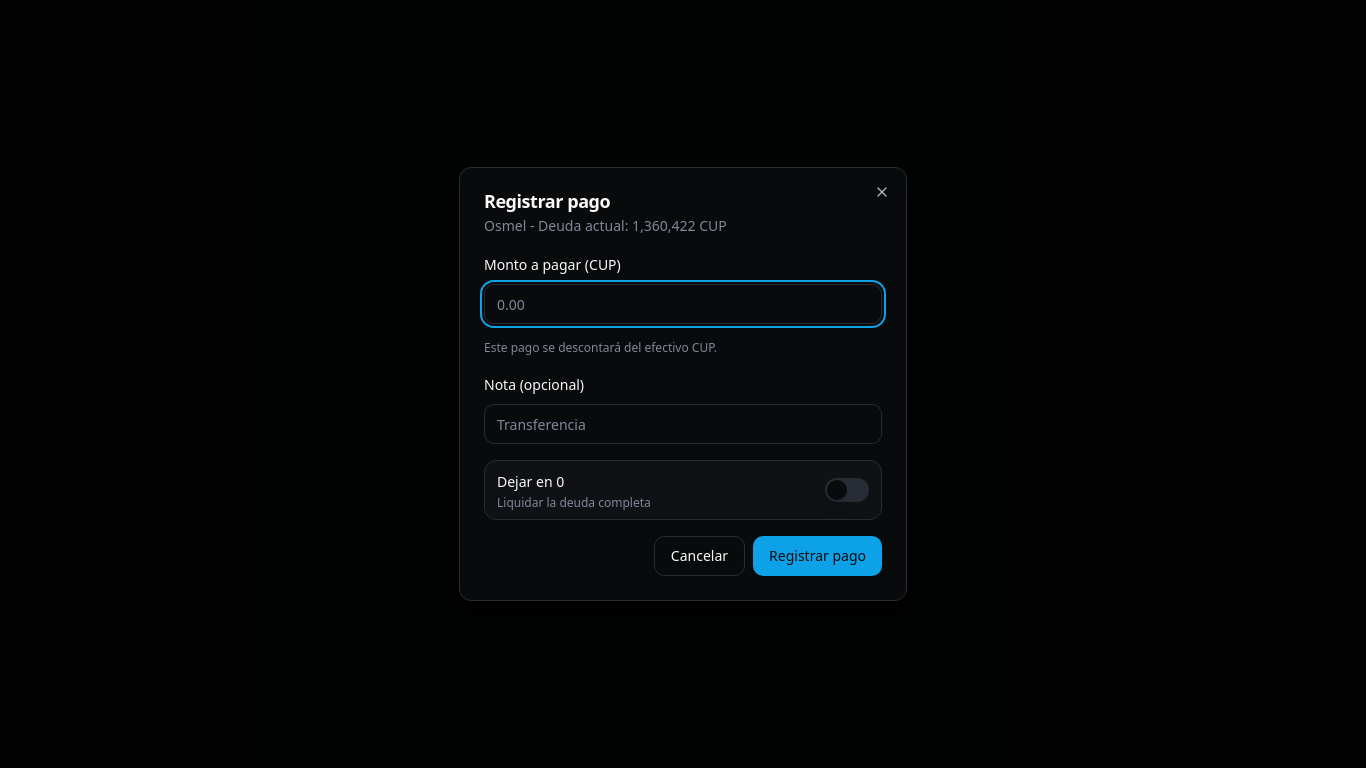
Test: CreateRemeseroPaymentDialog › clears amount and unlocks the input when 'Dejar en 0' is toggled off
Click the switch named "dejar en 0" at (847, 490), box [825,478,869,502]
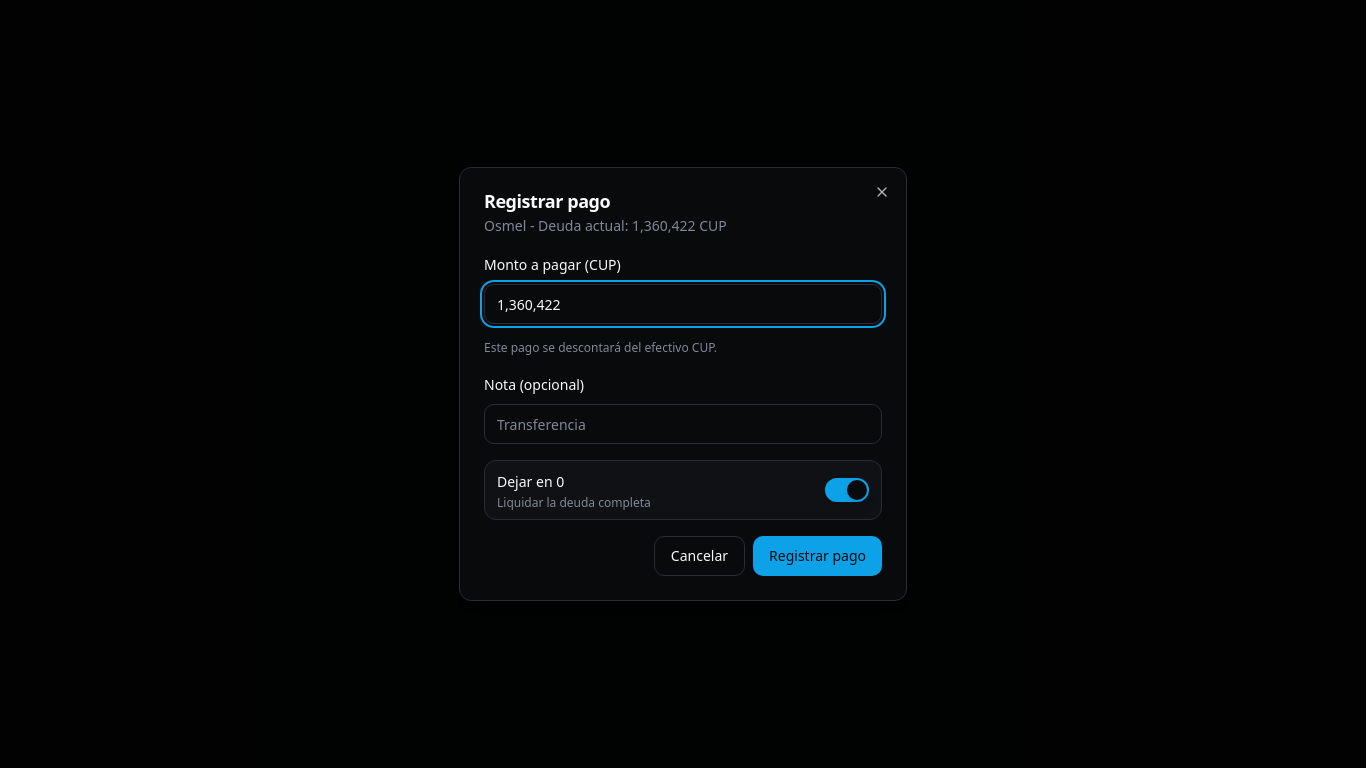
Click the switch named "dejar en 0" at (847, 490), box [825,478,869,502]
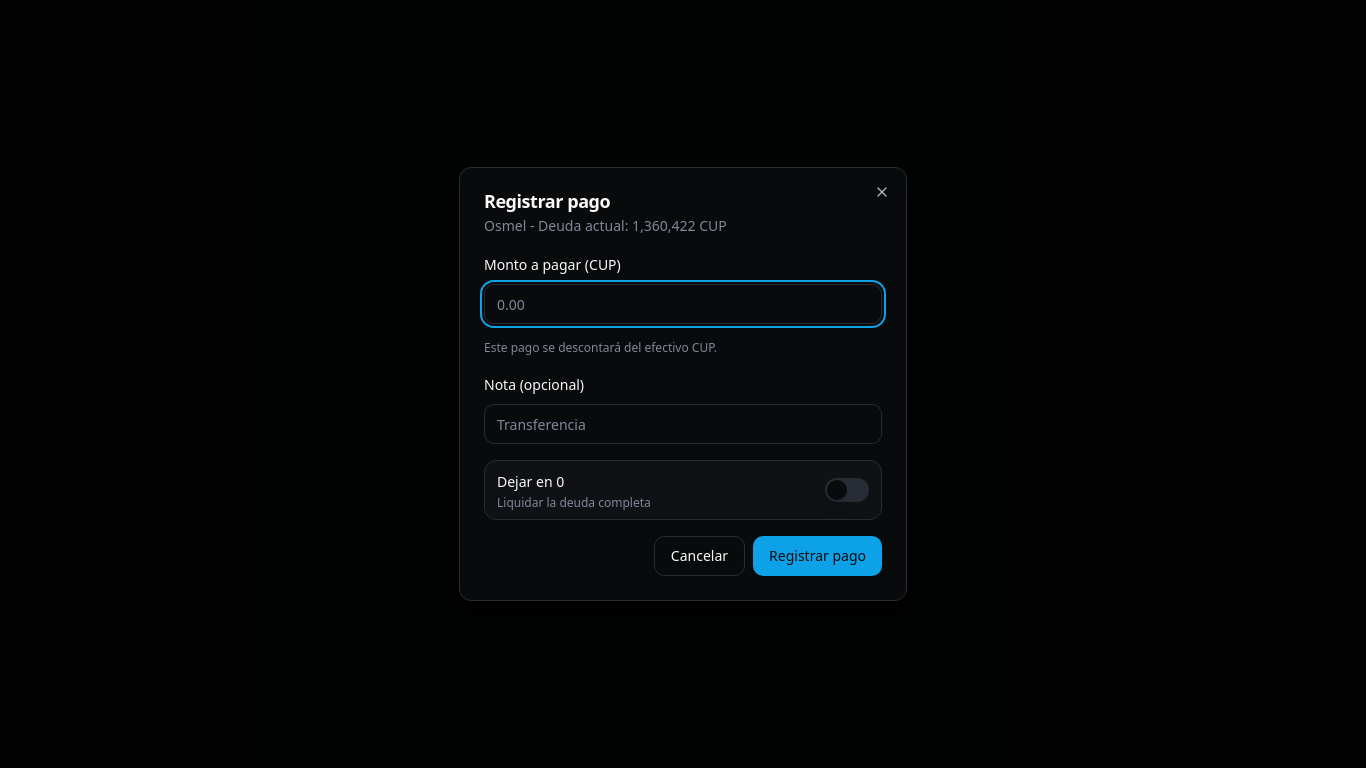
Result: the field labelled "Monto a pagar (CUP)" is empty at [484,284,882,324]
